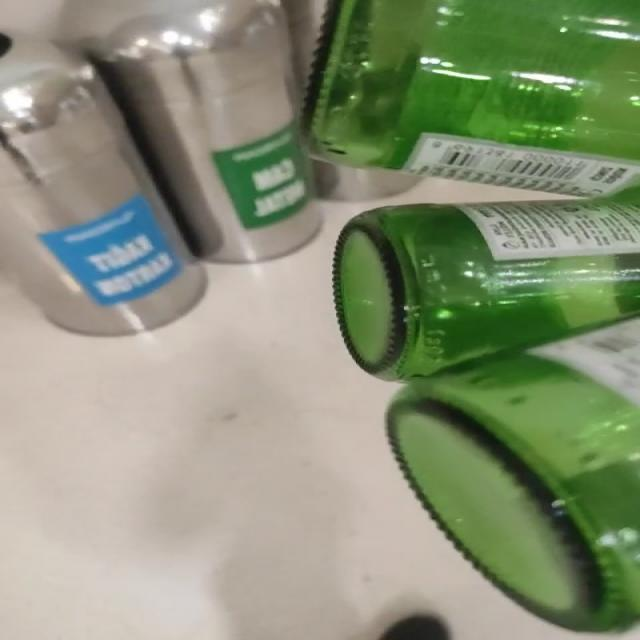glass: (308, 0, 640, 632)
